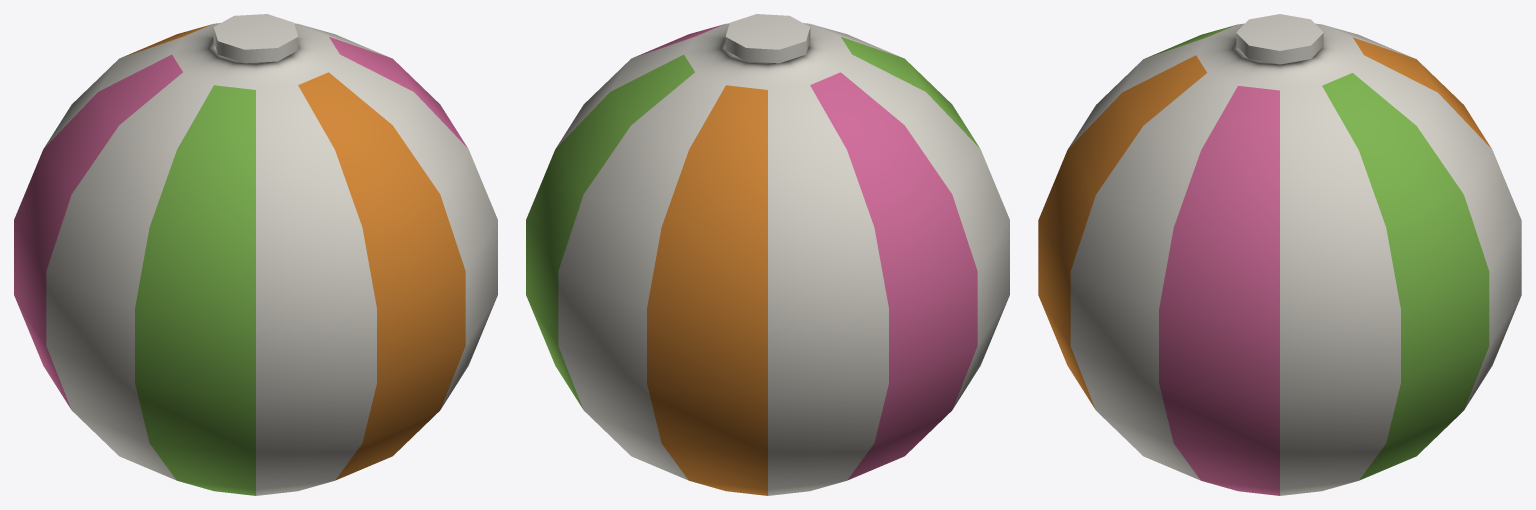
Rendered from beach-ball-c.glb.
3 views of the same model, side by side, from view 1: azimuth 30°, elevation 25°; view 2: azimuth 150°, elevation 25°; view 3: azimuth 270°, elevation 25° (orthographic).
Visible parts, largest first — view 1: beach-ball-c; view 2: beach-ball-c; view 3: beach-ball-c.
Boxes of the visible parts, x1=… form: beach-ball-c: x1=14, y1=14, x2=497, y2=495; beach-ball-c: x1=526, y1=14, x2=1009, y2=495; beach-ball-c: x1=1038, y1=14, x2=1521, y2=495.
Bounding box in the file's own units: 0.5515 × 0.5592 × 0.5515.
